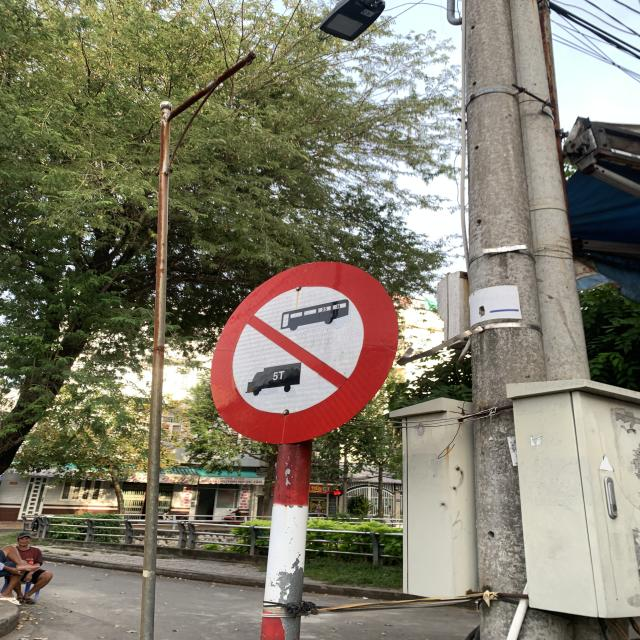Cam_XeTai_XeKhach: (208, 258, 398, 442)
